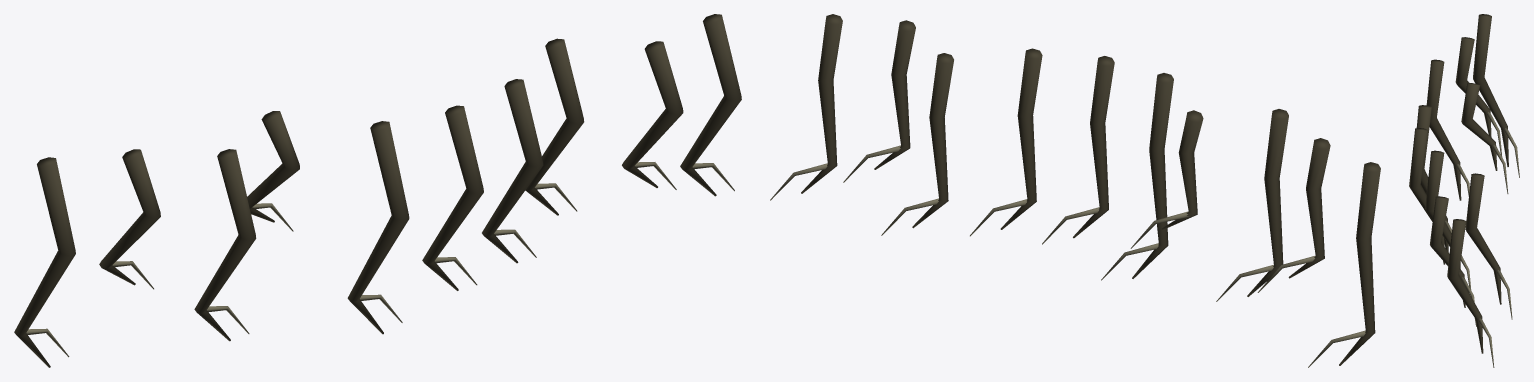
Rendered from root-curtain-b.glb.
3 renders of one model, left to right at view 1: azimuth 30°, elevation 25°; view 2: azimuth 150°, elevation 25°; view 3: azimuth 270°, elevation 25°, orthographic. The views are drawn at different scales.
Parts seen in each view (by area): view 1: Surface; view 2: Surface; view 3: Surface.
Boxes of the visible parts, x1,y1,x2,y2 form: Surface: [14, 14, 741, 367]; Surface: [770, 14, 1380, 367]; Surface: [1409, 14, 1519, 367].
Size of the model in its own units: 1.41 by 0.438 by 0.2927.
